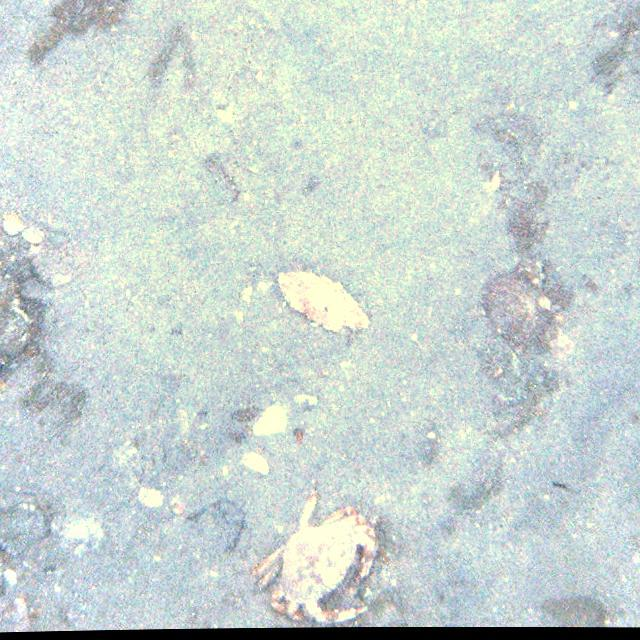crab: (260, 488, 380, 626)
